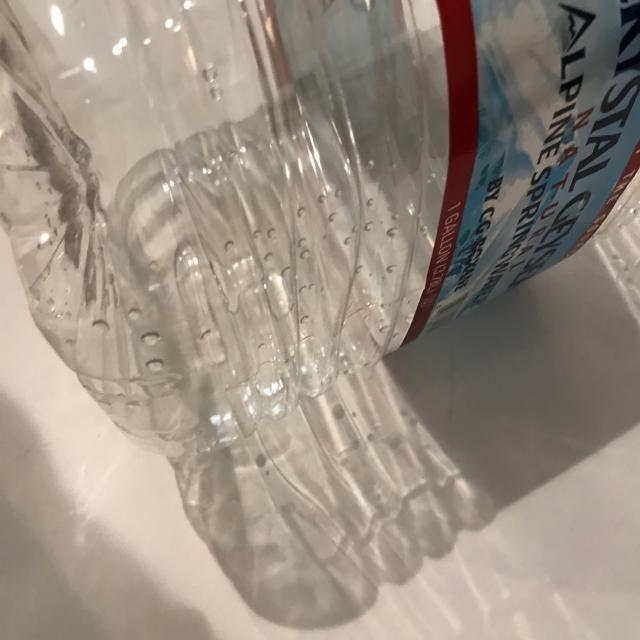plastic: (1, 1, 640, 410)
